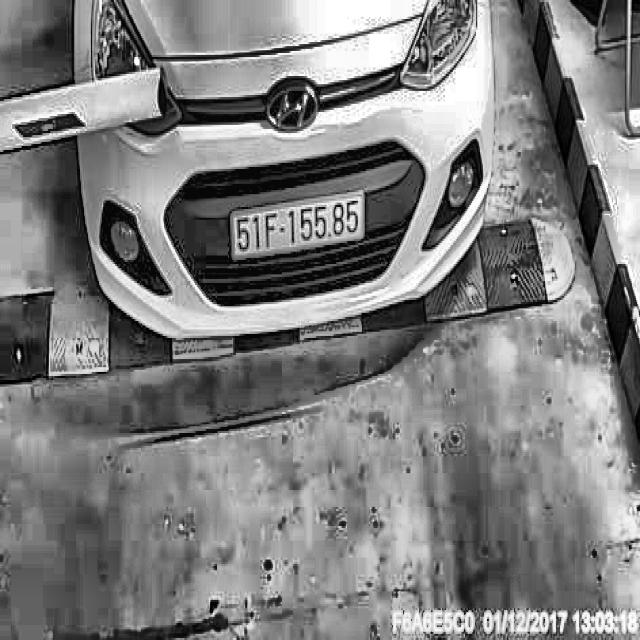plate: (229, 183, 370, 265)
